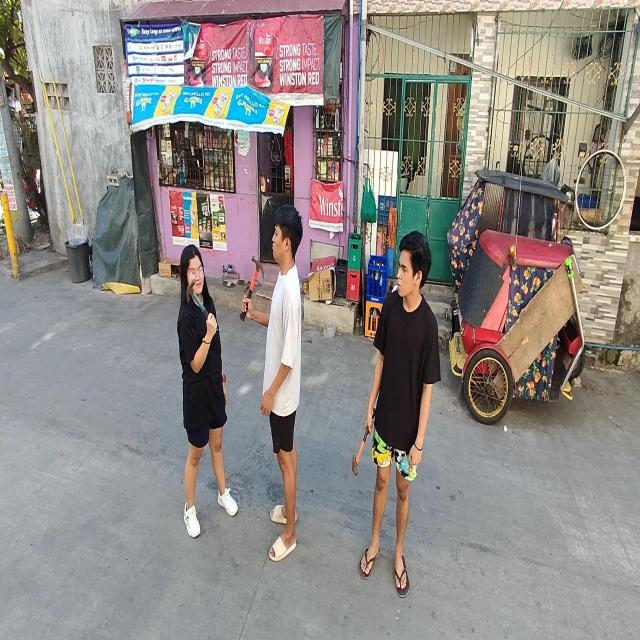hammer: (352, 408, 376, 476), (240, 255, 264, 322), (187, 278, 210, 321)
